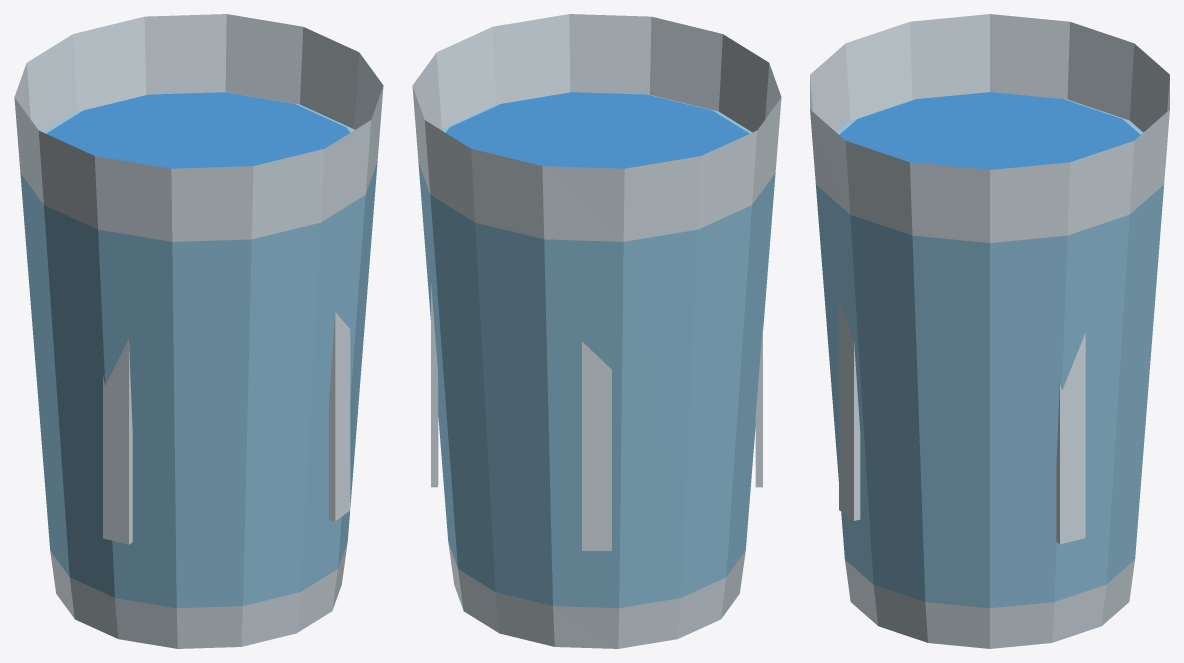
File: vaso_agua.obj
3 views of the same model, side by side, from view 1: azimuth 30°, elevation 25°; view 2: azimuth 150°, elevation 25°; view 3: azimuth 270°, elevation 25° (orthographic).
Parts seen in each view (by area): view 1: vaso_agua; view 2: vaso_agua; view 3: vaso_agua.
Boxes of the visible parts, <box> form: vaso_agua: <box>14,14,383,648</box>; vaso_agua: <box>412,14,781,648</box>; vaso_agua: <box>810,14,1169,648</box>.
Bounding box in the file's own units: 0.62 × 0.92 × 0.6044.
